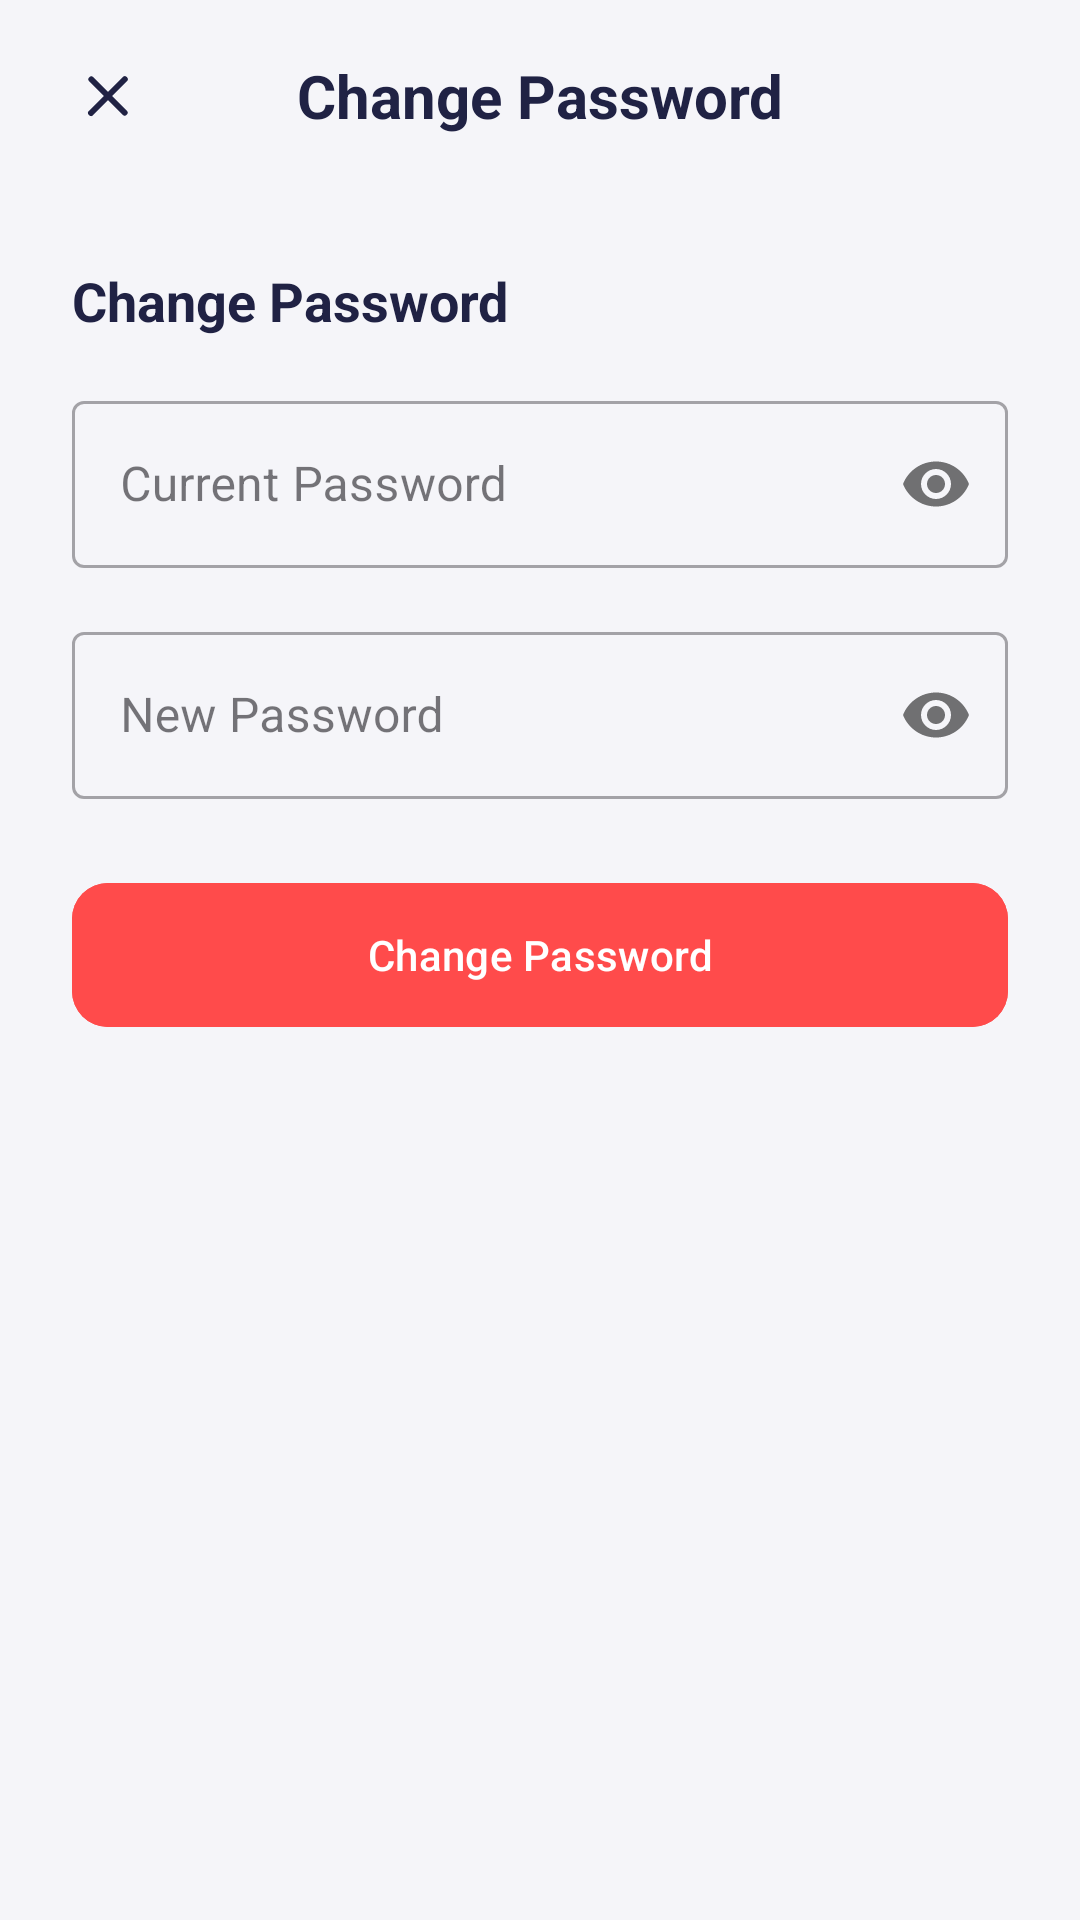

Screen size 1080*1920. Icon name, then its box in pixels as (x1, y1, x2, y2):
close: (88, 76, 128, 116)
